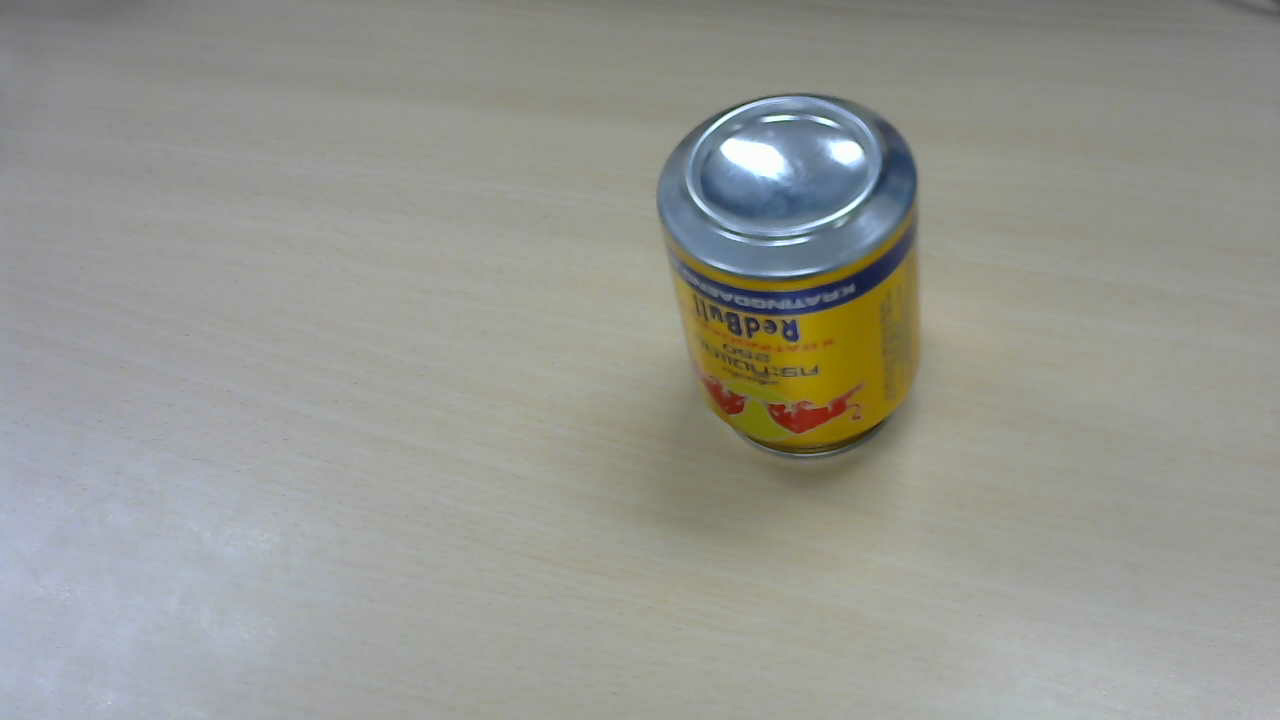Red_Bull: (665, 100, 933, 457)
